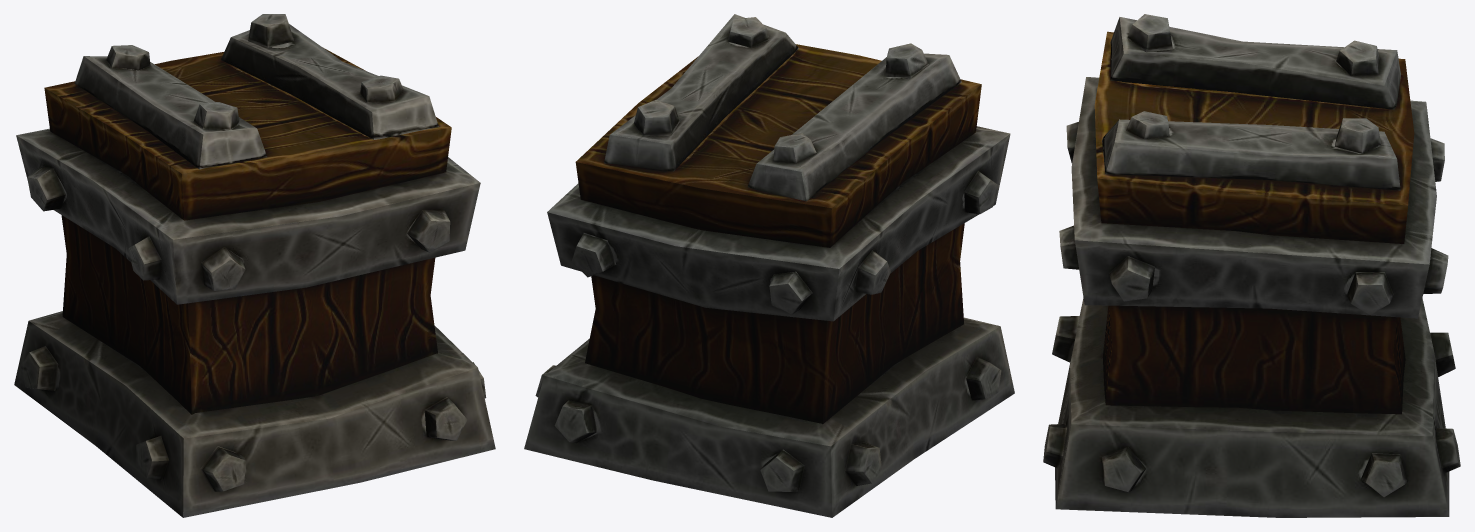
The model's file is stylized_low-poly_wood_metal_chest.glb.
3 renders of one model, left to right at view 1: azimuth 30°, elevation 25°; view 2: azimuth 150°, elevation 25°; view 3: azimuth 270°, elevation 25°, orthographic. The views are drawn at different scales.
Parts seen in each view (by area): view 1: Tool.003, Tool.001, Tool.002, Tool.004, Tool.005; view 2: Tool.003, Tool.001, Tool.002, Tool.004, Tool.005; view 3: Tool.003, Tool.001, Tool.002, Tool.004, Tool.005.
Part boxes in pixels (box(x1,y1,x2,y2)): Tool.003: box(44, 47, 451, 414); Tool.001: box(14, 311, 495, 517); Tool.002: box(16, 128, 480, 304); Tool.004: box(74, 24, 438, 169); Tool.005: box(20, 14, 486, 491); Tool.003: box(575, 44, 981, 424); Tool.001: box(524, 317, 1014, 517); Tool.002: box(547, 126, 1010, 321); Tool.004: box(604, 14, 961, 201); Tool.005: box(535, 17, 1001, 491); Tool.003: box(1094, 31, 1414, 414); Tool.001: box(1055, 298, 1449, 517); Tool.002: box(1071, 77, 1436, 318); Tool.004: box(1102, 17, 1400, 190); Tool.005: box(1043, 14, 1460, 497).
Bounding box in the file's own units: 57.86 × 58.67 × 59.51.
Materials: 2 (2 with a texture image).
